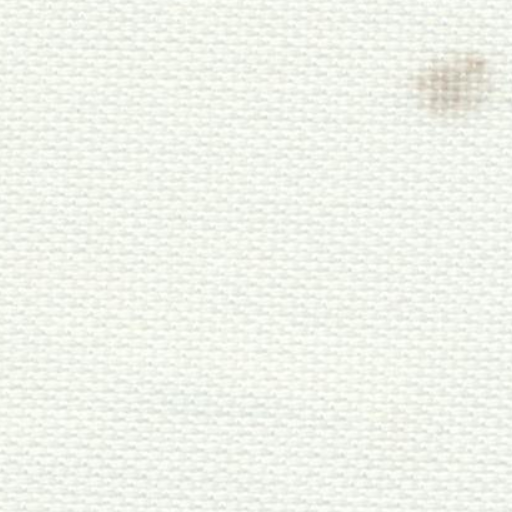WuZi: (409, 34, 500, 131)
